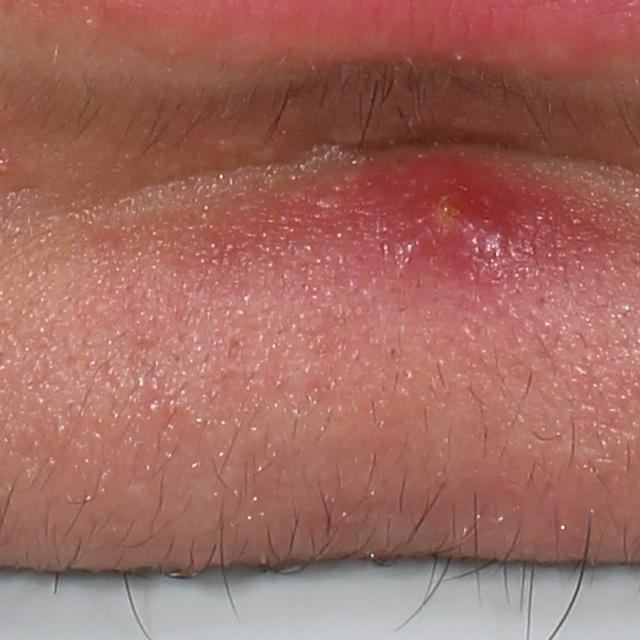nodule: (292, 152, 600, 287)
